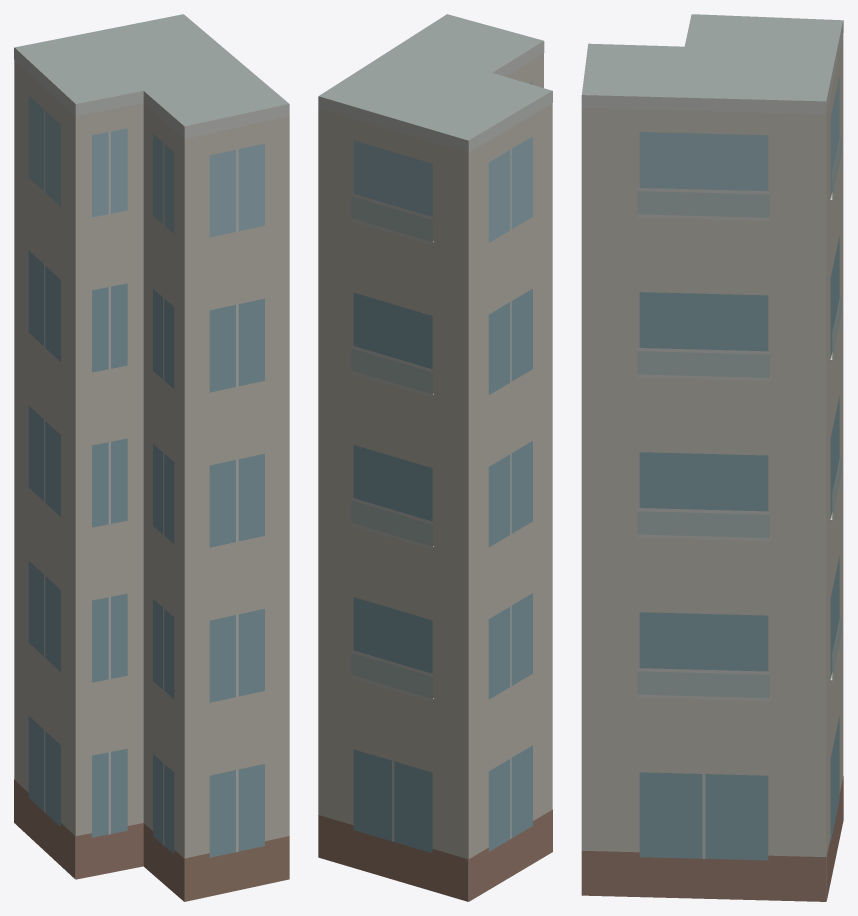
Rendered from survey-upis-32996364.glb.
The picture shows the model from 3 angles, left to right: view 1: azimuth 30°, elevation 25°; view 2: azimuth 150°, elevation 25°; view 3: azimuth 270°, elevation 25°; orthographic projection. The views are drawn at different scales.
Visible parts, largest first — view 1: survey-upis-32996364.tmp; view 2: survey-upis-32996364.tmp; view 3: survey-upis-32996364.tmp.
Part boxes in pixels (left/top/right/bottom): survey-upis-32996364.tmp: left=14, top=14, right=289, bottom=901; survey-upis-32996364.tmp: left=318, top=14, right=552, bottom=901; survey-upis-32996364.tmp: left=581, top=14, right=843, bottom=901.
Bounding box in the file's own units: 3.58 × 15.25 × 4.53.
